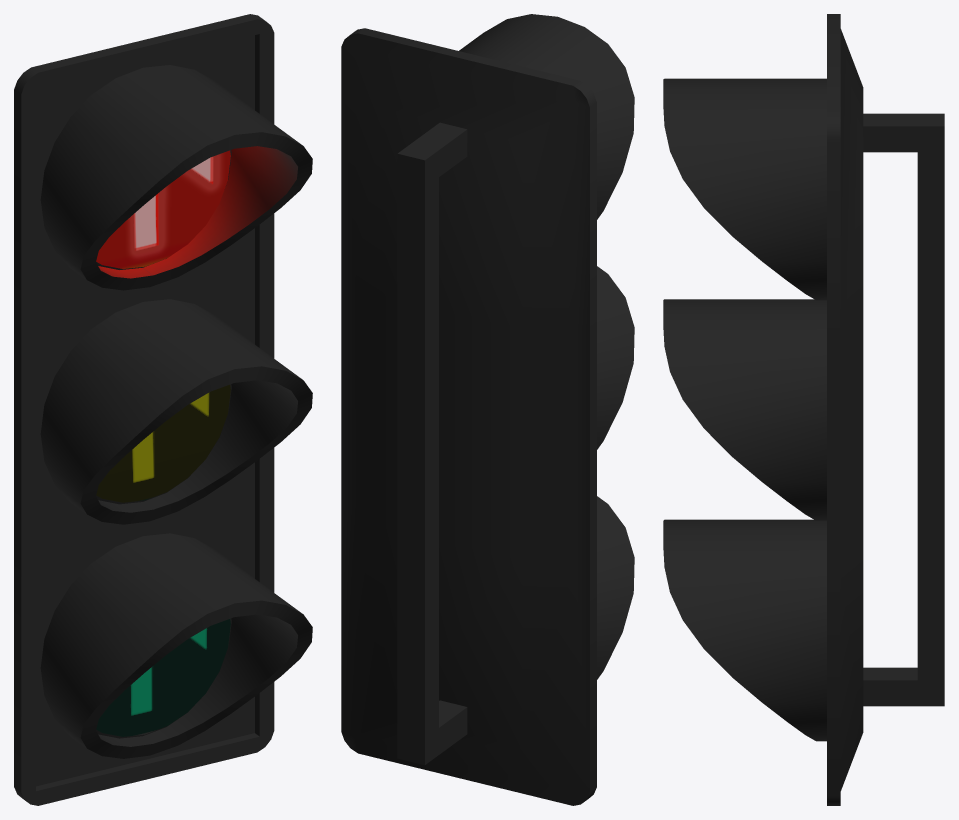
The model's file is sm_trli_001_03.fbx.
3 views of the same model, side by side, from view 1: azimuth 30°, elevation 25°; view 2: azimuth 150°, elevation 25°; view 3: azimuth 270°, elevation 25° (orthographic). The views are drawn at different scales.
Visible parts, largest first — view 1: sm_trli_001_03; view 2: sm_trli_001_03; view 3: sm_trli_001_03.
Part boxes in pixels (x1,y1,x2,y2): sm_trli_001_03: (14, 14, 312, 805); sm_trli_001_03: (341, 14, 634, 805); sm_trli_001_03: (663, 14, 944, 805).
Bounding box in the file's own units: 0.4809 × 1.33 × 0.4919.
